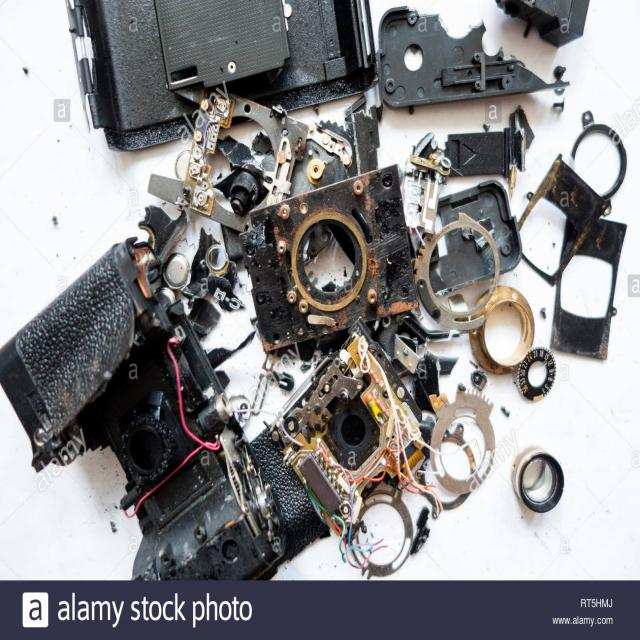heap: (44, 40, 613, 564)
